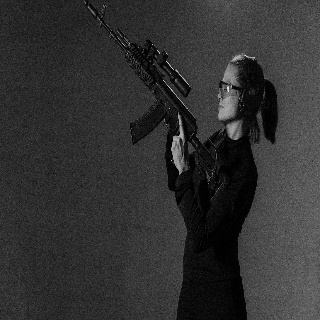rifle: (80, 1, 219, 183)
